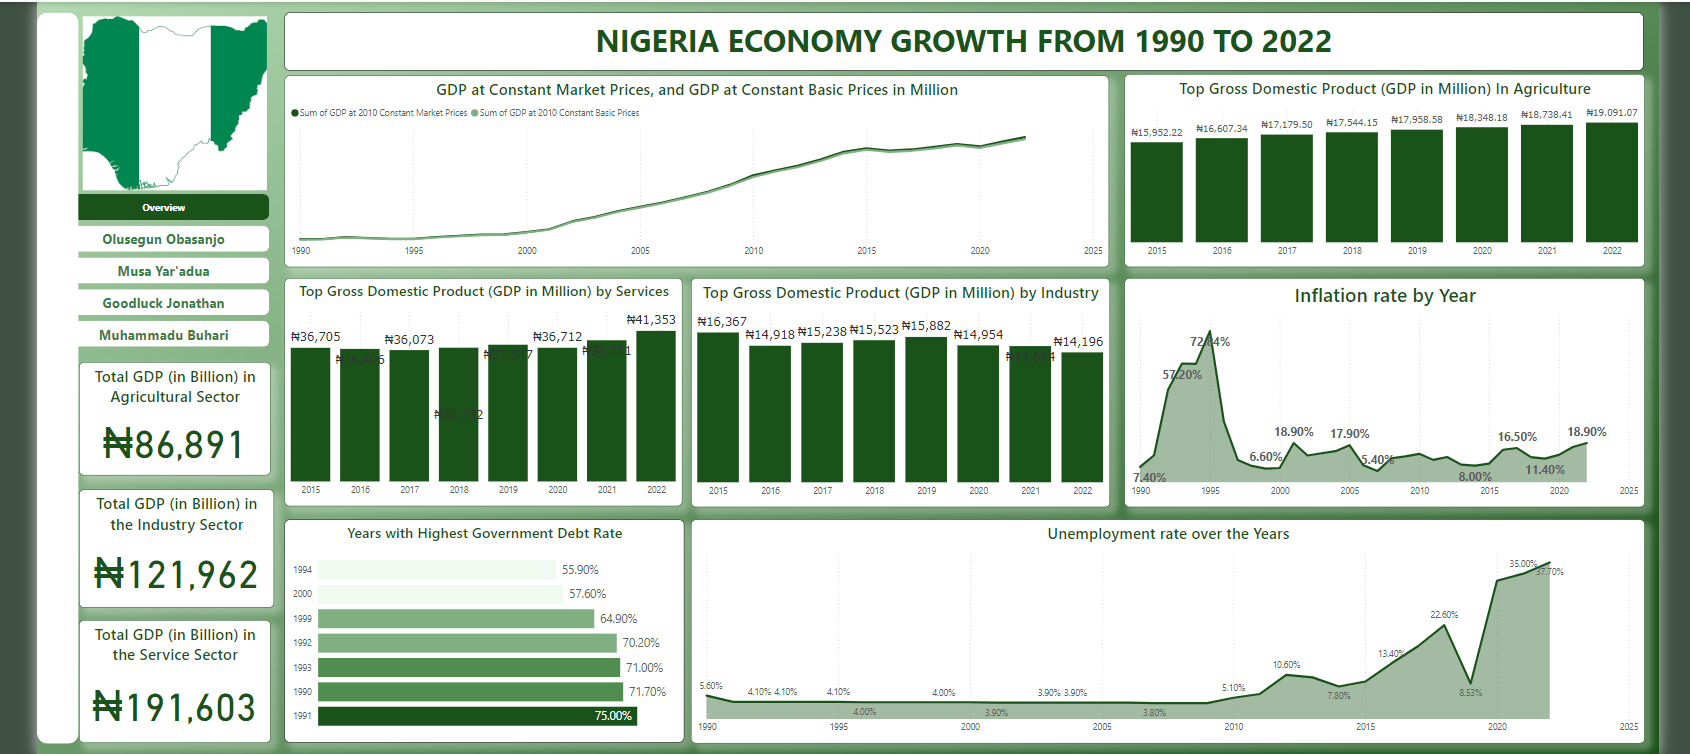

Layout of this report page (visuals, bound fields, positions):
{"tool":"powerbi","page":{"name":"Overview","canvas":[2250,1046],"ordinal":0},"visuals":[{"type":"textbox","box":[344.3,13.9,1885.6,80.9],"z":0},{"type":"lineChart","title":"GDP at Constant Market Prices, and GDP at Constant Basic Prices in Million","fields":{"Y":["Nigeria Economy.GDP at 2010 Constant Market Prices","Nigeria Economy.GDP at 2010 Constant Basic Prices"],"Category":["Nigeria Economy.Year"]},"box":[344.3,101.7,1143.8,265.7],"z":1000},{"type":"clusteredColumnChart","title":"Top Gross Domestic Product (GDP in Million) In Agriculture","fields":{"Category":["Nigeria Economy.Year"],"Y":["Nigeria Economy.Agriculture"]},"box":[1509.3,99.9,721.8,267.8],"z":2000},{"type":"areaChart","title":"Unemployment rate over the Years","fields":{"Category":["Nigeria Economy.Year"],"Y":["Nigeria Economy.Unemployment"]},"box":[907.9,717.2,1323.2,310.9],"z":3000},{"type":"areaChart","title":"Inflation rate by Year","fields":{"Category":["Nigeria Economy.Year"],"Y":["Nigeria Economy.Inflation rate"]},"box":[1509.3,383.6,721.8,317.8],"z":4000},{"type":"barChart","title":"Years with Highest Government Debt Rate","fields":{"Category":["Nigeria Economy.Year"],"Y":["Nigeria Economy.Government debt"]},"box":[344.3,718.7,554.6,309.6],"z":5000},{"type":"clusteredColumnChart","title":"Top Gross Domestic Product (GDP in Million) by Services","fields":{"Category":["Nigeria Economy.Year"],"Y":["Nigeria Economy.Services"]},"box":[344.3,383.6,552.3,316.6],"z":6000},{"type":"columnChart","title":"Top Gross Domestic Product (GDP in Million) by Industry","fields":{"Category":["Nigeria Economy.Year"],"Y":["Nigeria Economy.Industry"]},"box":[907.9,383.6,581,317.8],"z":7000},{"type":"card","title":"Total GDP (in Billion) in Agricultural Sector","fields":{"Values":["GOODLUCK 2010-2015.Agriculture"]},"box":[57.8,499.1,265.7,157.1],"z":8000},{"type":"card","title":"Total GDP (in Billion) in the Industry Sector","fields":{"Values":["BUHARI 2015-2023.Industry"]},"box":[57.8,677.1,270.4,164.1],"z":9000},{"type":"card","title":"Total GDP (in Billion) in the Service Sector","fields":{"Values":["GOODLUCK 2010-2015.Services"]},"box":[57.8,857.3,265.7,171],"z":10000},{"type":"pageNavigator","box":[29.1,266.4,293.4,216.4],"z":11000},{"type":"shape","box":[0,13.9,57.8,1014.4],"z":12000},{"type":"image","box":[57.8,13.9,265.7,251.9],"z":13000}]}

Visuals, with their boxes on the page's 2250x1046 design canvas (x1, y1, x2, y2). These are canvas units, not pixel positions in the 1690x754 screenshot, which may show the page scaled, cropped or inside an application window:
textbox: detection(344, 14, 2230, 95)
"GDP at Constant Market Prices, and GDP at Constant Basic Prices in Million" lineChart: detection(344, 102, 1488, 367)
"Top Gross Domestic Product (GDP in Million) In Agriculture" clusteredColumnChart: detection(1509, 100, 2231, 368)
"Unemployment rate over the Years" areaChart: detection(908, 717, 2231, 1028)
"Inflation rate by Year" areaChart: detection(1509, 384, 2231, 701)
"Years with Highest Government Debt Rate" barChart: detection(344, 719, 899, 1028)
"Top Gross Domestic Product (GDP in Million) by Services" clusteredColumnChart: detection(344, 384, 897, 700)
"Top Gross Domestic Product (GDP in Million) by Industry" columnChart: detection(908, 384, 1489, 701)
"Total GDP (in Billion) in Agricultural Sector" card: detection(58, 499, 324, 656)
"Total GDP (in Billion) in the Industry Sector" card: detection(58, 677, 328, 841)
"Total GDP (in Billion) in the Service Sector" card: detection(58, 857, 324, 1028)
pageNavigator: detection(29, 266, 322, 483)
shape: detection(0, 14, 58, 1028)
image: detection(58, 14, 324, 266)
